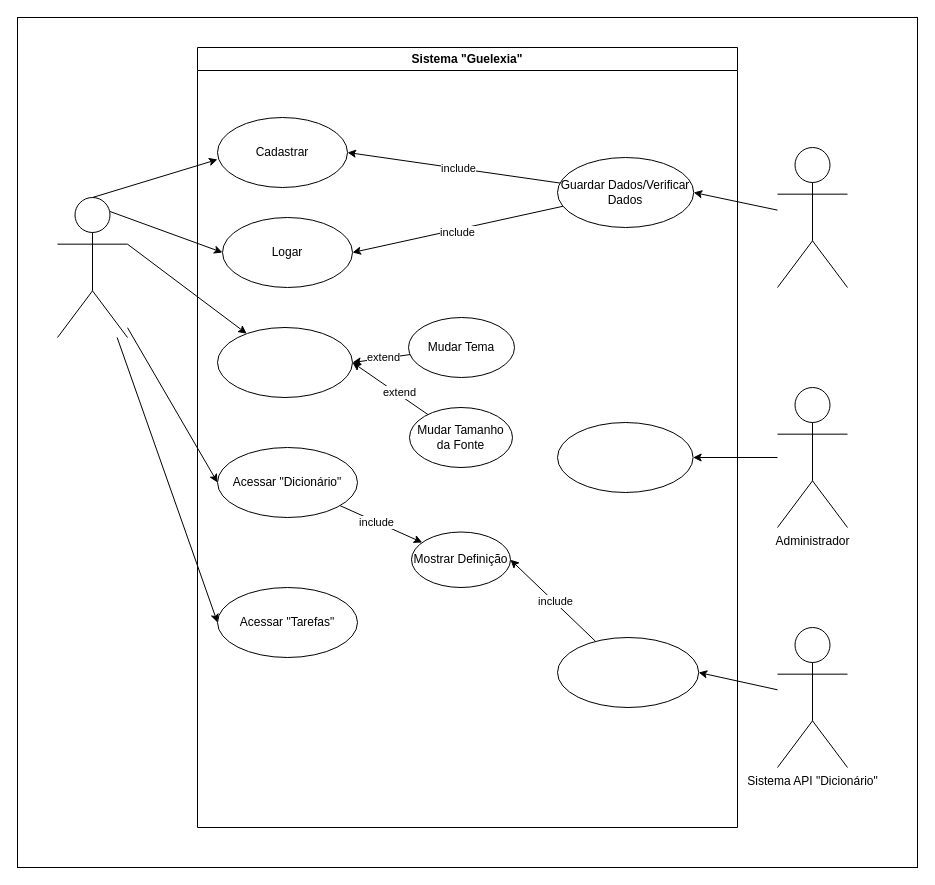
The diagram is 935 pixels wide and 885 high, and some of its shapes have lost their labels. Here are the shapes that lost their labels. From the top down, the centre of each, then its label:
At [812,217]: "Robô (Banco de Dados)".
At [92,267]: "Estudante".
At [284,362]: "Configurar Tela".
At [624,457]: "Atualizar Tarefas".
At [627,672]: "Buscar Palavra".
